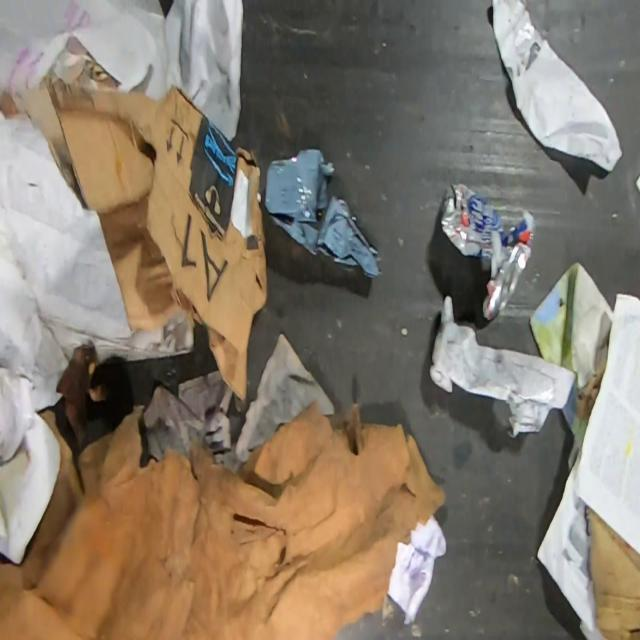cardboard: (0, 397, 446, 640), (0, 76, 267, 404), (586, 506, 640, 640)
metal: (438, 180, 536, 324)
soft_plastic: (263, 148, 381, 278)
